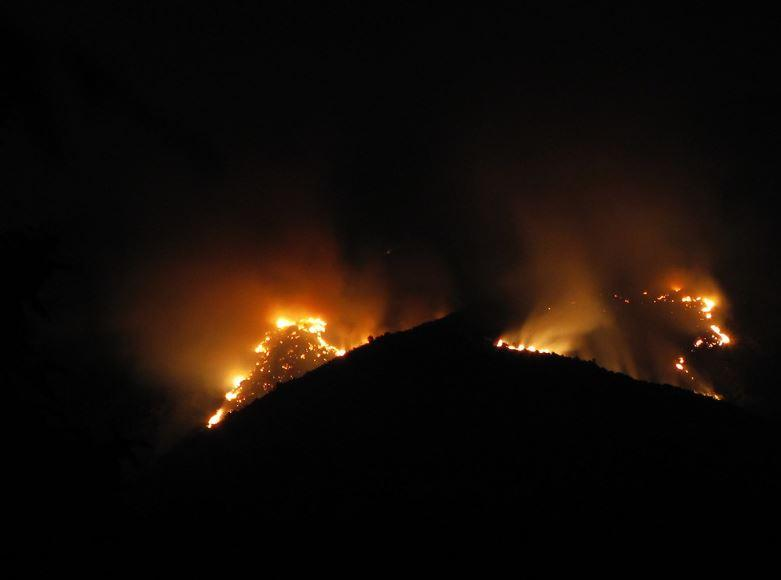fire: (196, 369, 246, 427), (250, 313, 334, 333), (509, 334, 571, 360)
